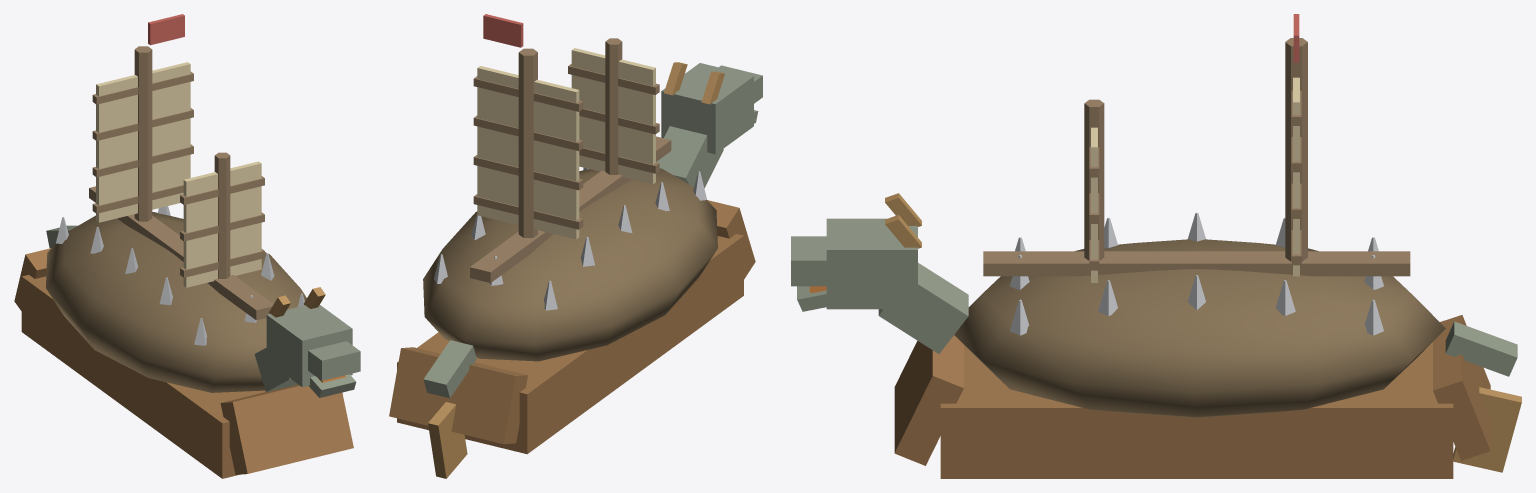
The model's file is troop-turtleship.glb.
The picture shows the model from 3 angles, left to right: view 1: azimuth 30°, elevation 25°; view 2: azimuth 150°, elevation 25°; view 3: azimuth 270°, elevation 25°; orthographic projection. The views are drawn at different scales.
Visible parts, largest first — view 1: shell, body, sail, bow_panel, sail2, dragon_head, mast, shell_ridge, fore_mast, dragon_snout, sail_flag, dragon_neck (+2 smaller); view 2: shell, body, sail, sail2, stern_panel, dragon_head, mast, shell_ridge, dragon_neck, fore_mast, rudder, turtle_tail (+4 smaller); view 3: shell, body, shell_ridge, dragon_head, bow_panel, stern_panel, dragon_neck, mast, rudder, turtle_tail, fore_mast, sail (+2 smaller).
Part boxes in pixels (<box>): shell: <box>46,212,306,392</box>; body: <box>21,275,342,478</box>; sail: <box>92,62,193,222</box>; bow_panel: <box>220,384,353,474</box>; sail2: <box>180,161,264,287</box>; dragon_head: <box>266,305,352,387</box>; mast: <box>134,46,152,221</box>; shell_ridge: <box>89,186,273,320</box>; fore_mast: <box>214,152,230,278</box>; dragon_snout: <box>308,341,360,380</box>; sail_flag: <box>148,14,184,45</box>; dragon_neck: <box>254,347,297,391</box>; shell: <box>423,168,717,361</box>; body: <box>397,234,743,454</box>; sail: <box>473,66,583,239</box>; sail2: <box>568,48,659,184</box>; stern_panel: <box>389,347,527,444</box>; dragon_head: <box>661,63,753,154</box>; mast: <box>518,48,537,237</box>; shell_ridge: <box>470,136,671,282</box>; dragon_neck: <box>656,126,723,188</box>; fore_mast: <box>605,38,622,174</box>; rudder: <box>428,402,467,478</box>; turtle_tail: <box>423,340,476,398</box>; shell: <box>954,239,1445,417</box>; body: <box>940,342,1453,478</box>; shell_ridge: <box>983,251,1410,276</box>; dragon_head: <box>826,218,917,309</box>; bow_panel: <box>894,335,963,465</box>; stern_panel: <box>1433,315,1490,460</box>; dragon_neck: <box>878,263,968,353</box>; mast: <box>1285,38,1307,261</box>; rudder: <box>1453,387,1521,472</box>; turtle_tail: <box>1445,321,1517,376</box>; fore_mast: <box>1084,99,1104,260</box>; sail: <box>1291,77,1301,276</box>.
Size of the model in its own units: 0.2835 by 0.4806 by 0.6929.
